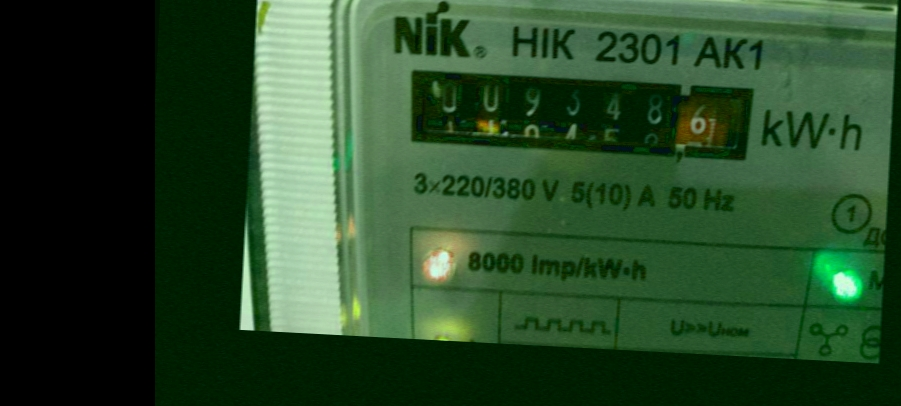0: (478, 77, 501, 115), (437, 77, 459, 113)
3: (560, 83, 584, 116)
4: (600, 85, 623, 123)
6: (686, 99, 710, 135)
8: (643, 89, 665, 124)
9: (521, 81, 541, 116)
screen: (383, 53, 773, 175)
